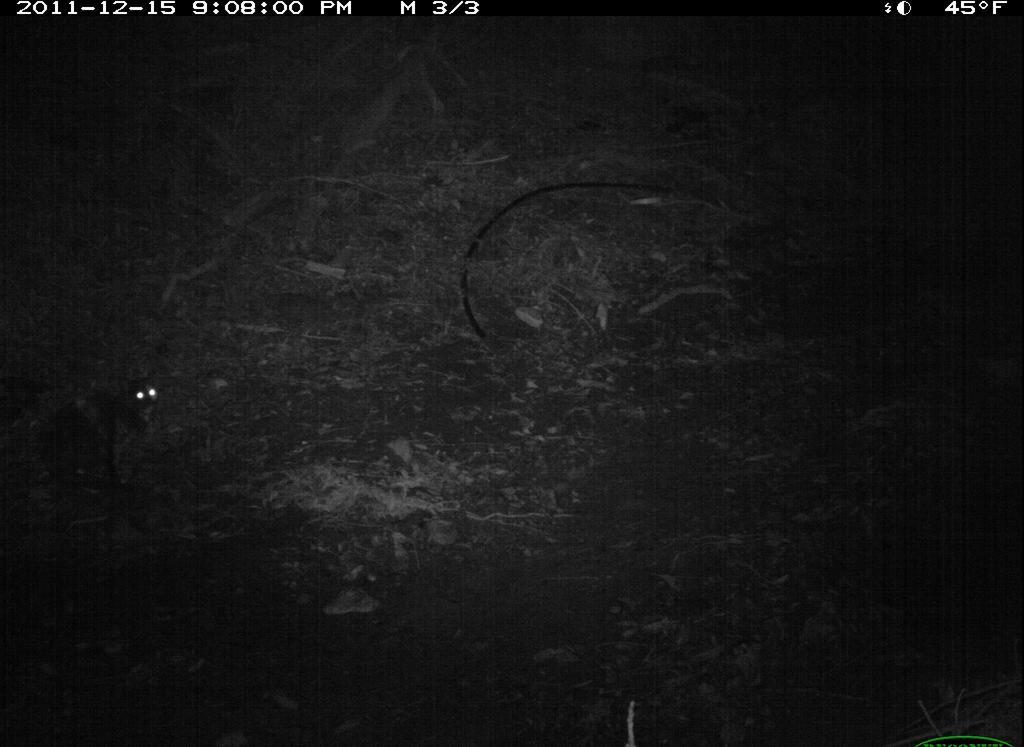cat: (25, 364, 171, 501)
